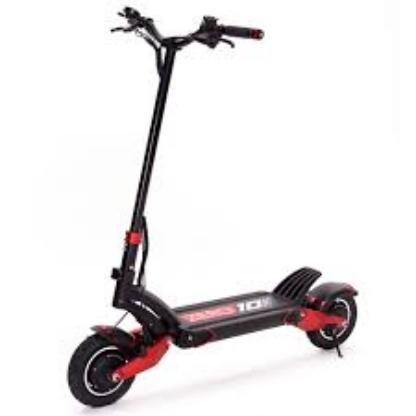bike: (66, 6, 359, 410), (68, 266, 359, 409)
